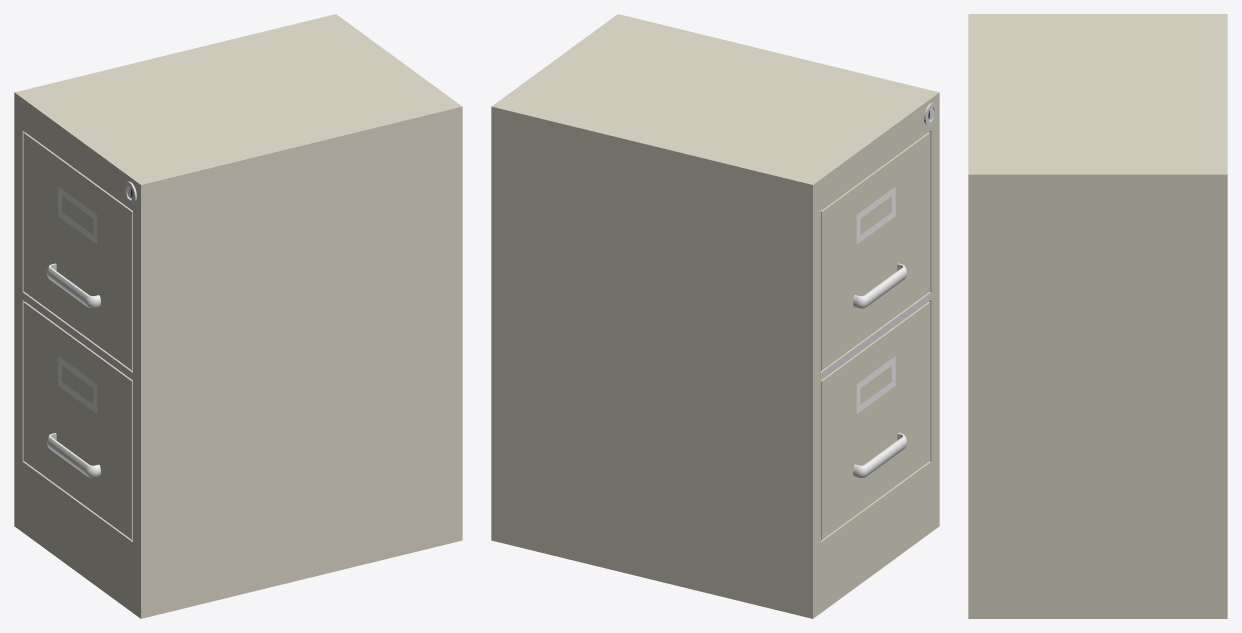
Rendered from filingcabinet2.gltf.
3 renders of one model, left to right at view 1: azimuth 30°, elevation 25°; view 2: azimuth 150°, elevation 25°; view 3: azimuth 270°, elevation 25°, orthographic. The views are drawn at different scales.
Visible parts, largest first — view 1: group_0.007, group_2, group_0.009, group_0.006, group_0.008, group_0, group_2.001, group_0.013, group_2.004; view 2: group_0.007, group_2, group_0.009, group_0.006, group_0.008, group_0, group_2.001, group_0.013, group_2.004; view 3: group_0.007.
Part boxes in pixels (x1=…): group_0.007: x1=14, y1=14, x2=462, y2=618; group_2: x1=23, y1=302, x2=132, y2=539; group_0.009: x1=23, y1=132, x2=132, y2=370; group_0.006: x1=22, y1=462, x2=132, y2=597; group_0.008: x1=22, y1=292, x2=132, y2=380; group_0: x1=46, y1=263, x2=100, y2=308; group_2.001: x1=46, y1=433, x2=100, y2=477; group_0.013: x1=58, y1=186, x2=97, y2=244; group_2.004: x1=58, y1=356, x2=97, y2=413; group_0.007: x1=491, y1=14, x2=939, y2=618; group_2: x1=821, y1=302, x2=930, y2=539; group_0.009: x1=821, y1=132, x2=930, y2=370; group_0.006: x1=821, y1=462, x2=931, y2=597; group_0.008: x1=821, y1=292, x2=931, y2=380; group_0: x1=853, y1=263, x2=907, y2=308; group_2.001: x1=853, y1=433, x2=907, y2=477; group_0.013: x1=856, y1=186, x2=895, y2=244; group_2.004: x1=856, y1=356, x2=895, y2=413; group_0.007: x1=968, y1=14, x2=1227, y2=618.
Bounding box in the file's own units: 0.578 × 0.721 × 0.381.
